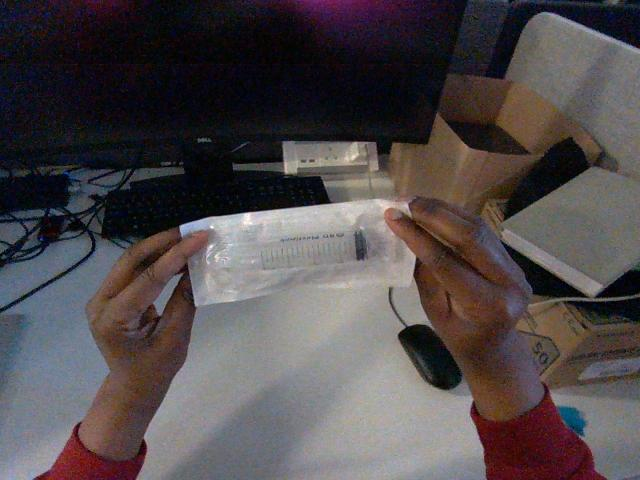syringe: (180, 200, 414, 305)
